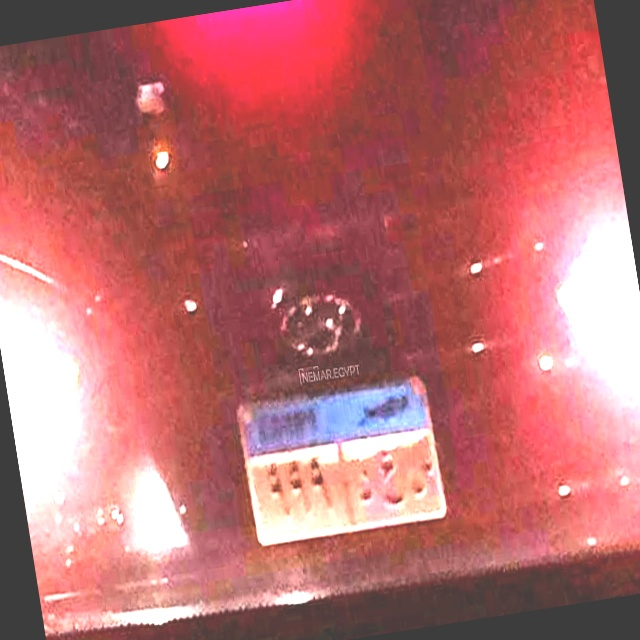License Plate: (227, 365, 454, 558)
